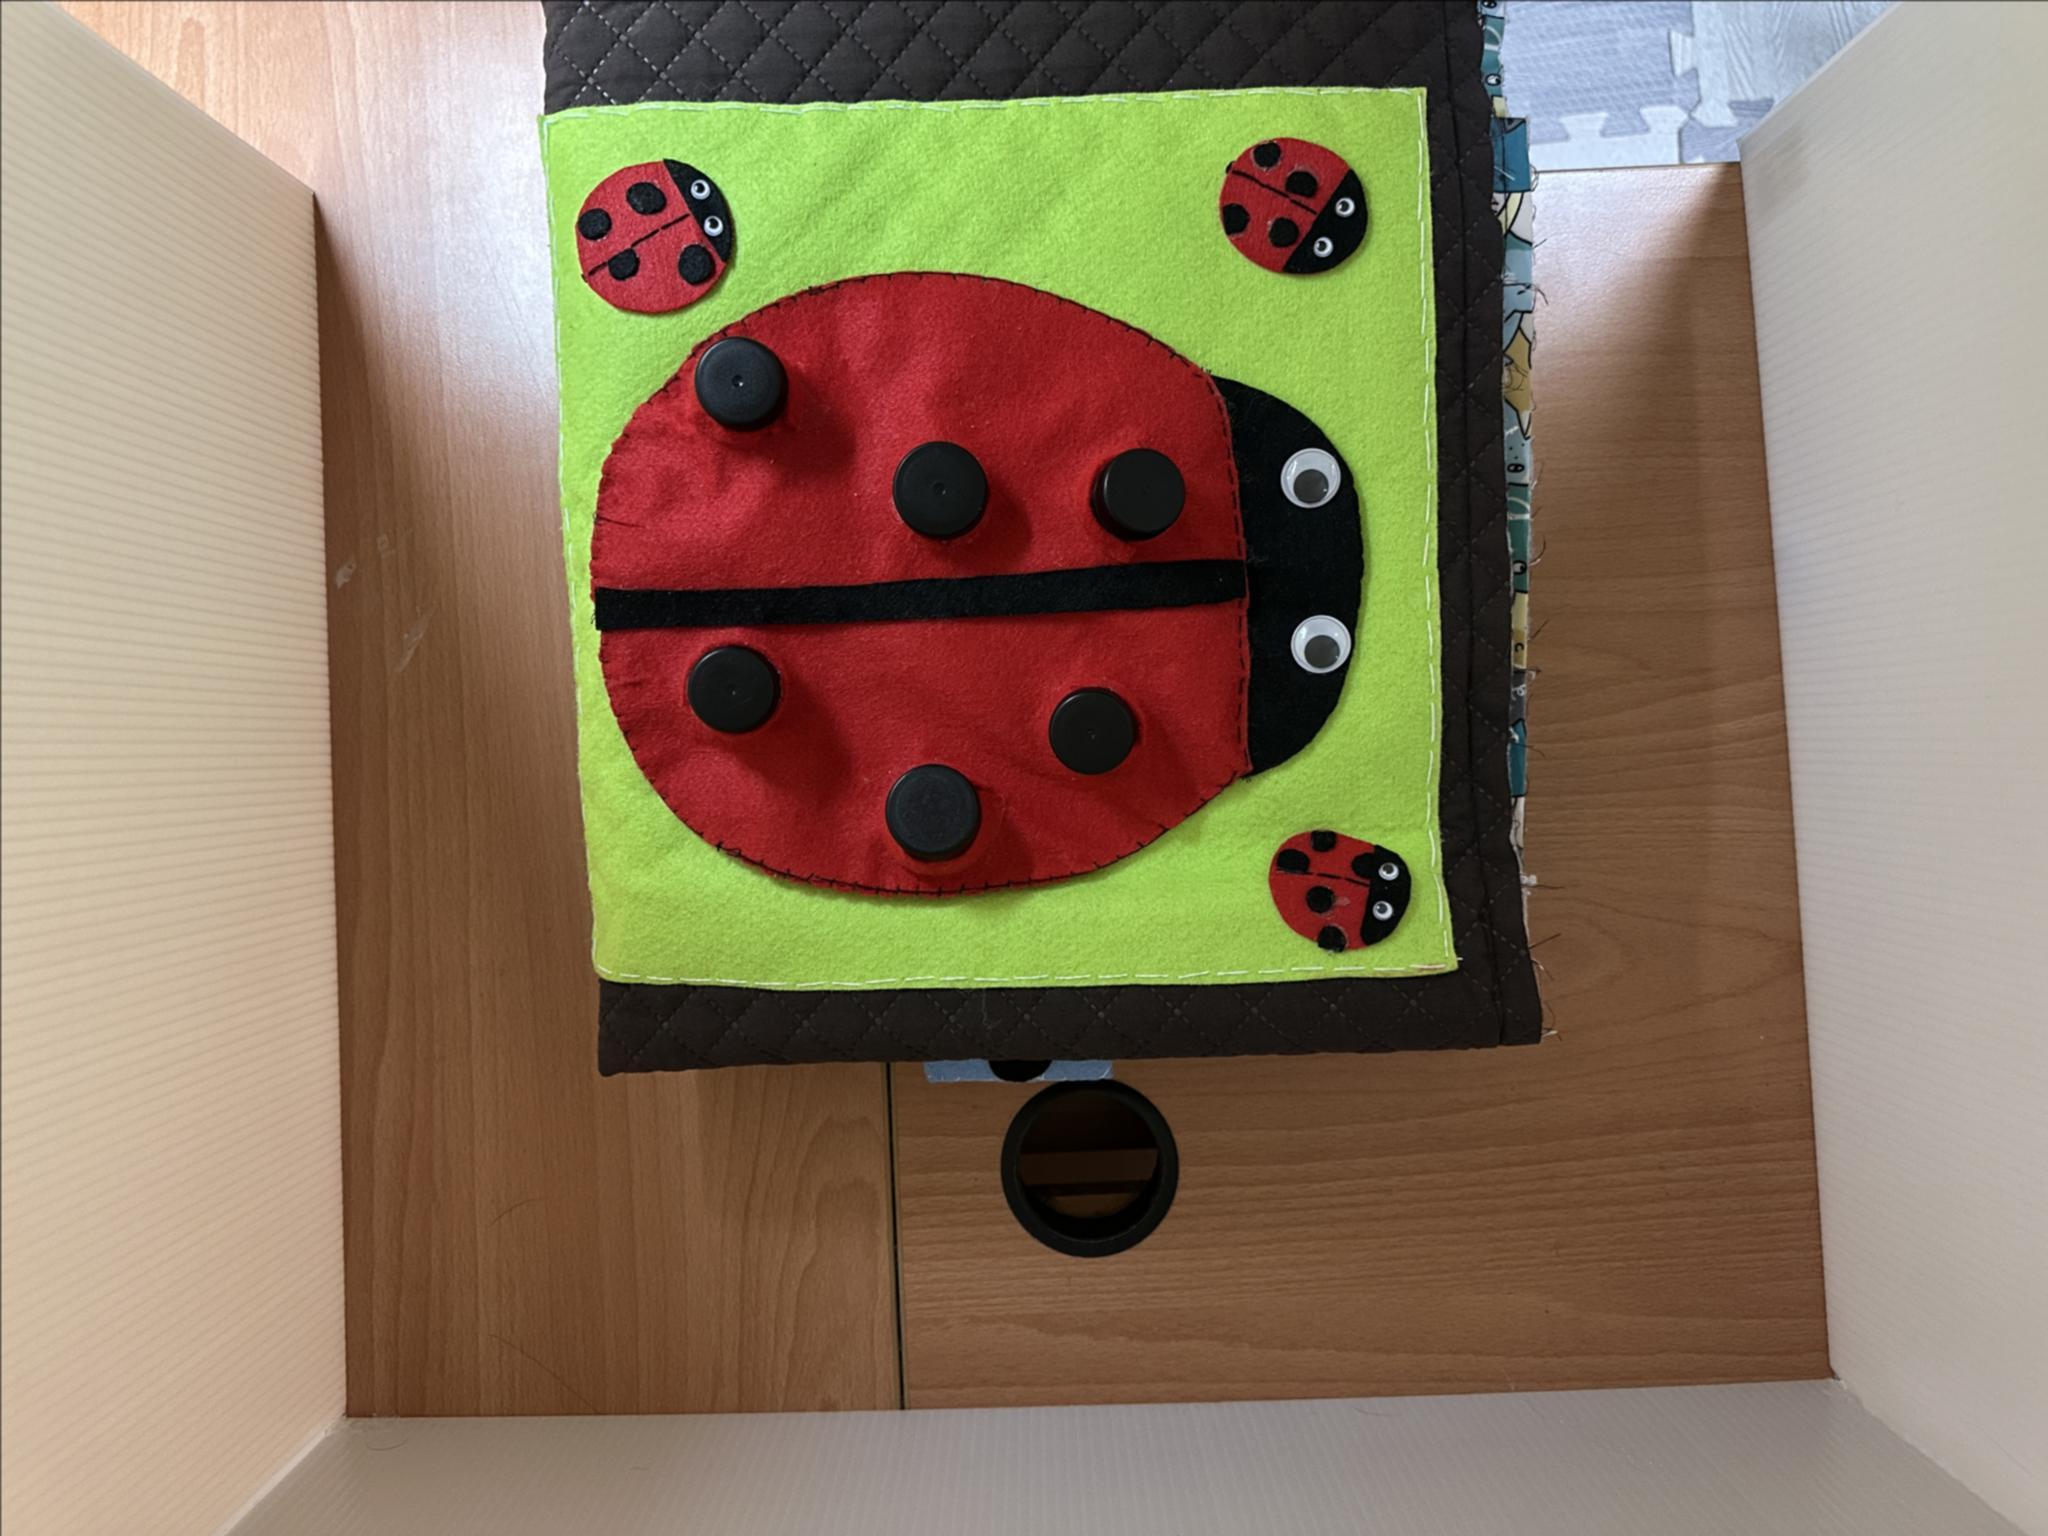cap_ok: (1026, 658, 1151, 789), (872, 428, 998, 555), (864, 749, 993, 871), (672, 318, 793, 442), (661, 641, 801, 745), (1071, 437, 1197, 544)
